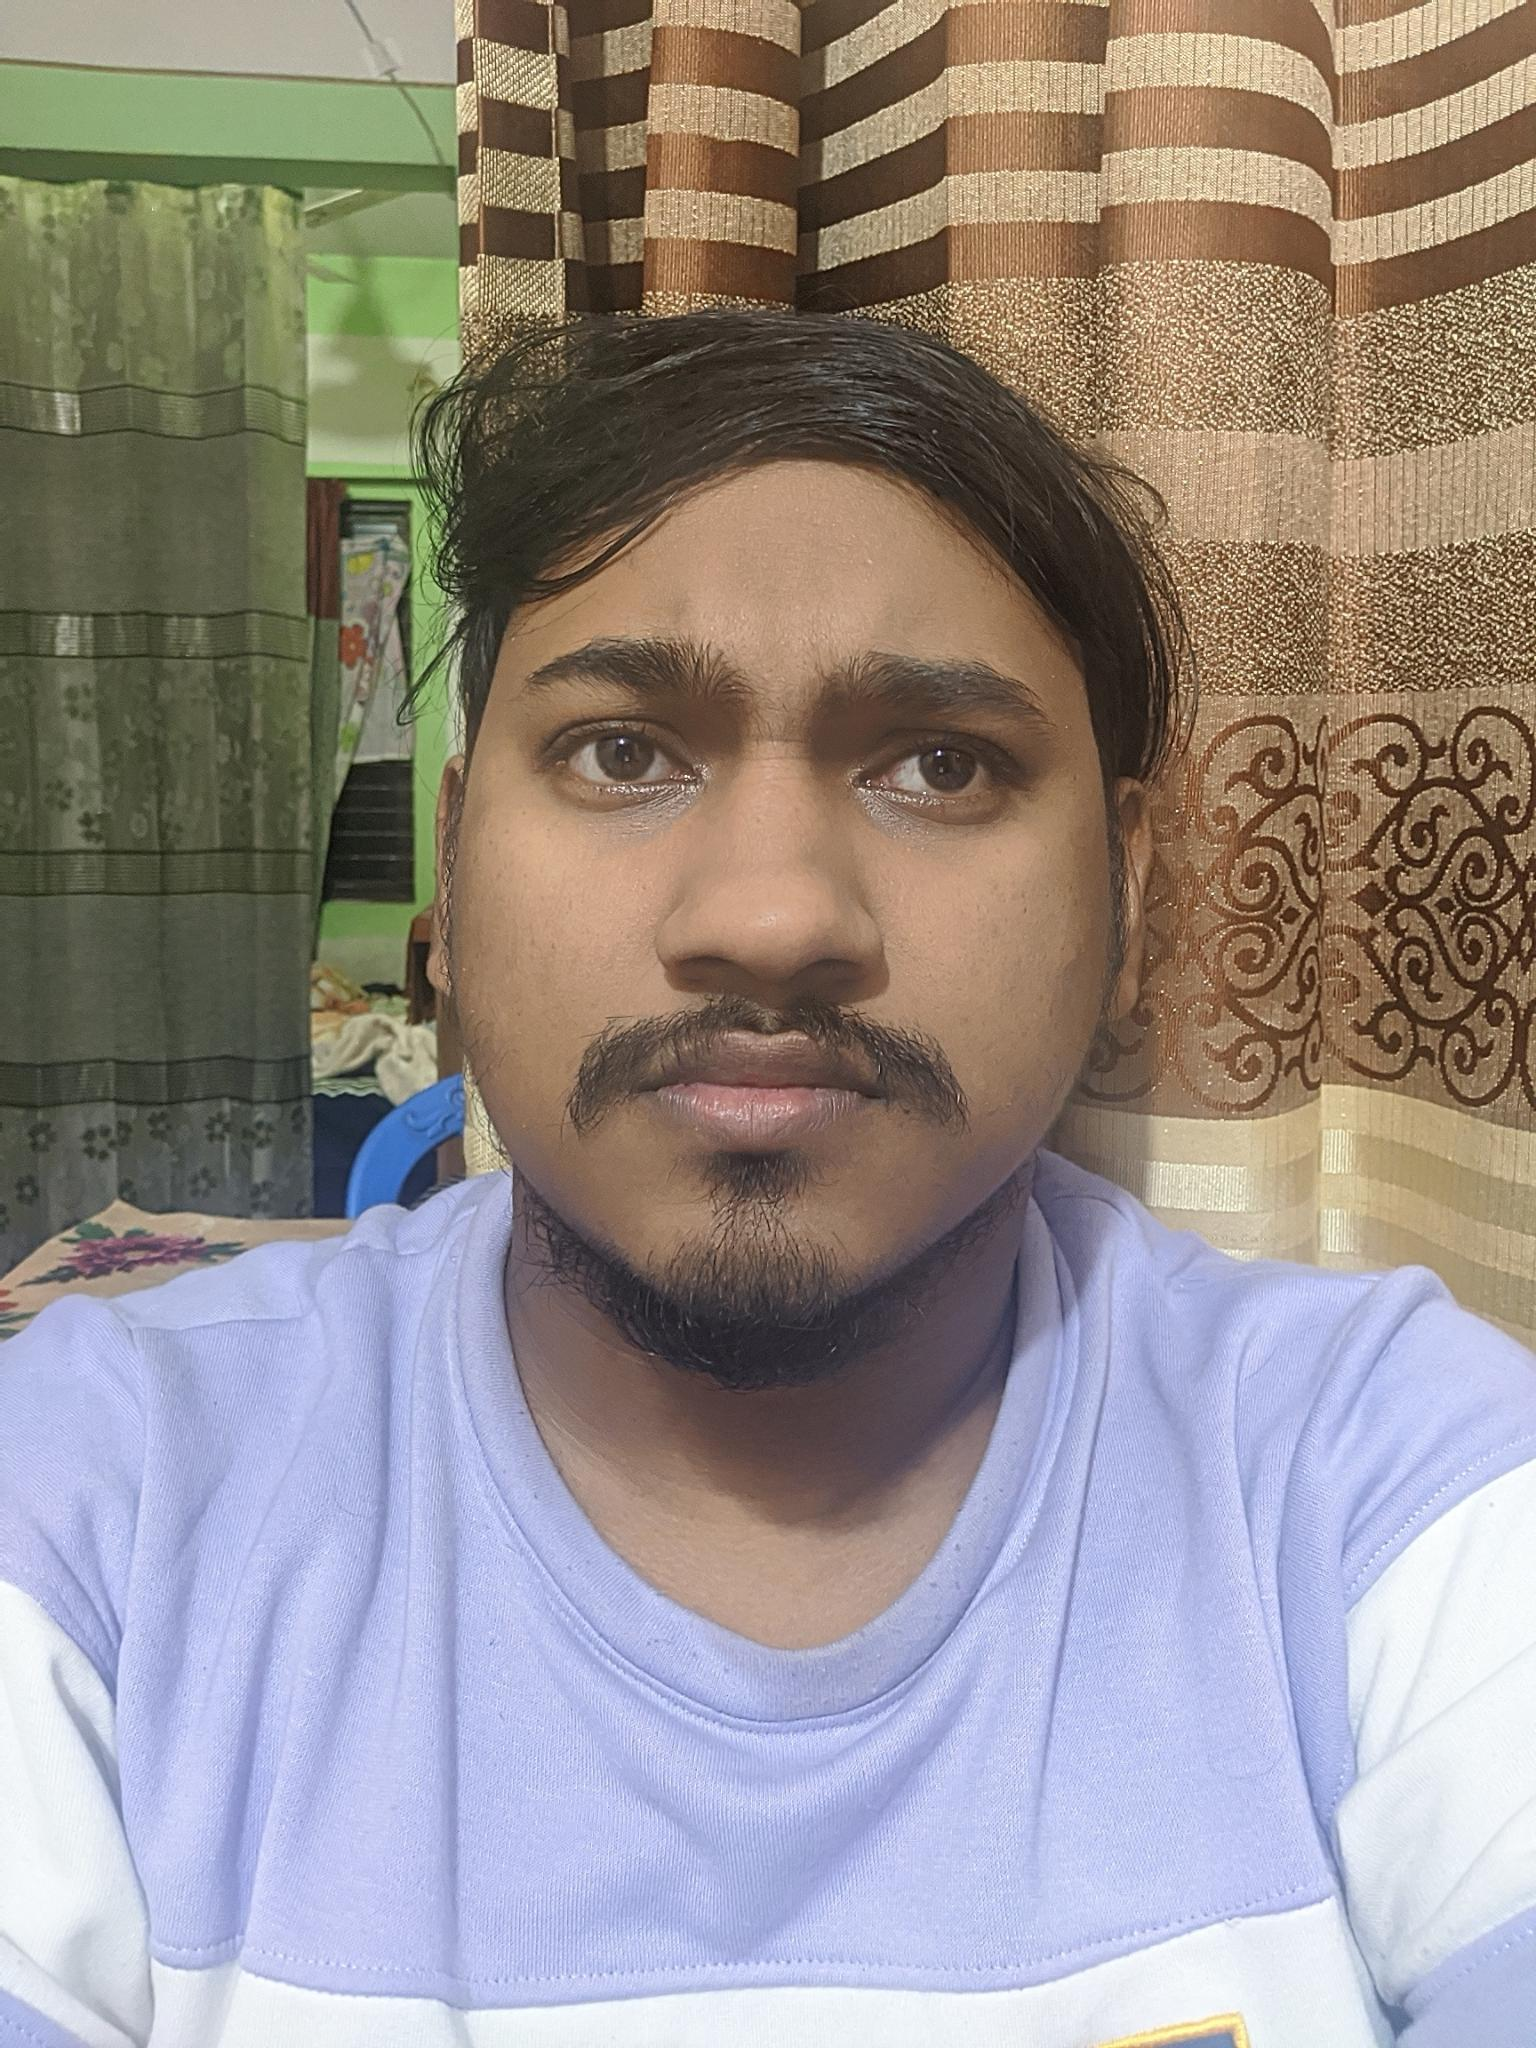Angry: (458, 553, 1105, 1293)
